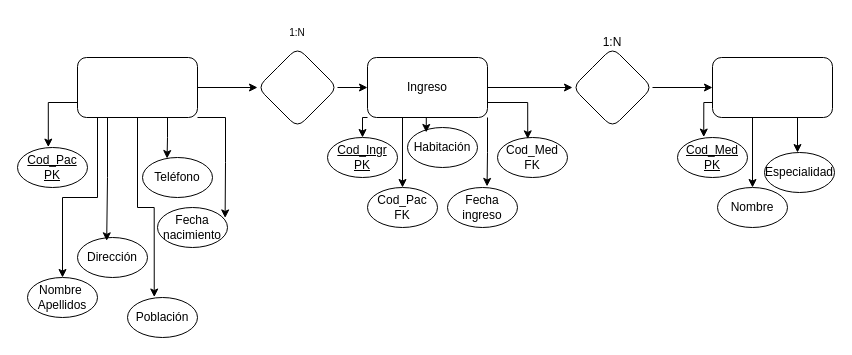
Some shapes in this 852 by 355 pixel diagram are drawn without their labels. The shapes that lost their labels are listed below. From the top down, each one's centre as x and y in pixels, then its label:
the point at 137,87: Paciente
the point at 297,87: Realliza
the point at 612,87: Atiende
the point at 772,87: Médico
